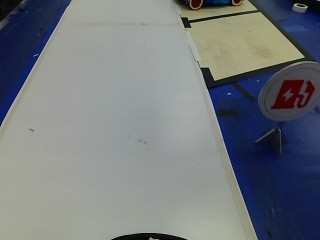battery: (257, 63, 318, 124)
